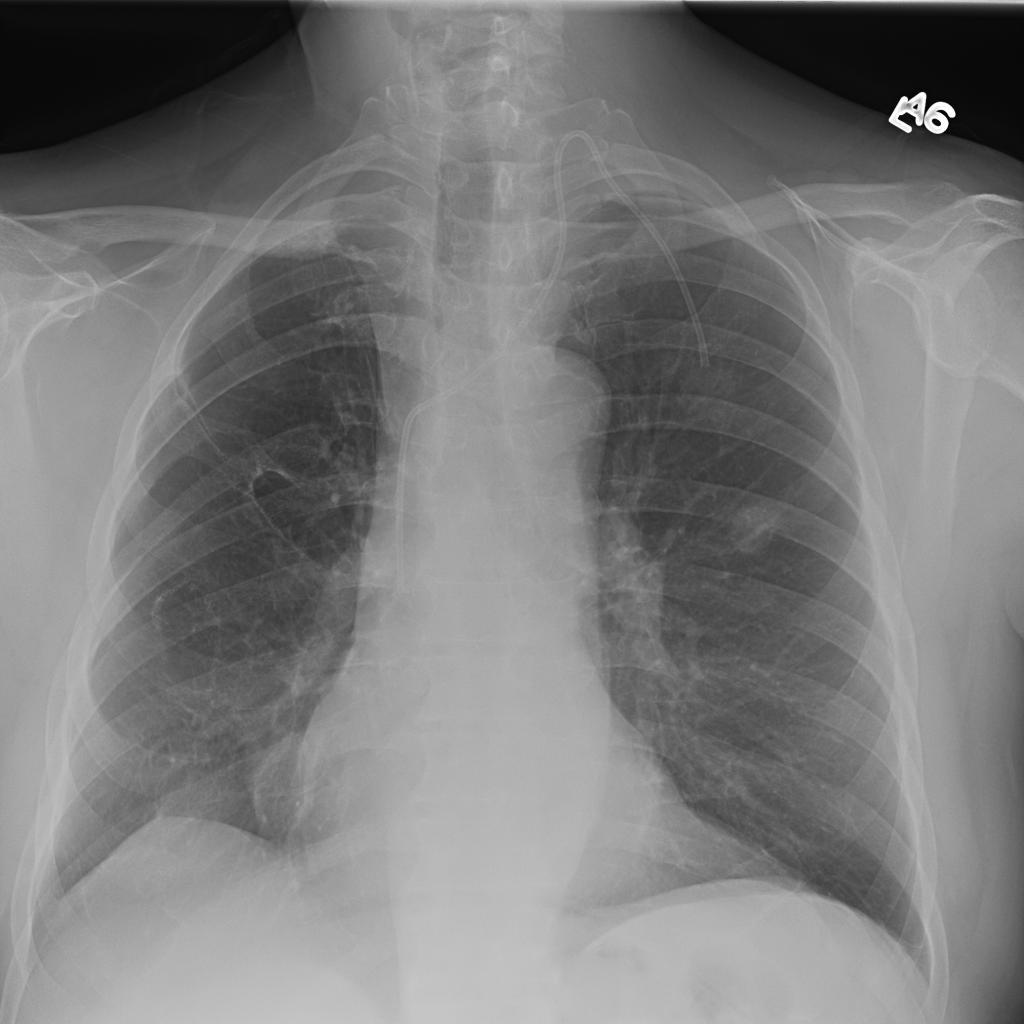Nodule: (289, 230, 316, 262), (374, 249, 395, 287)
